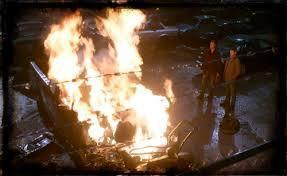fire: (31, 7, 185, 153)
